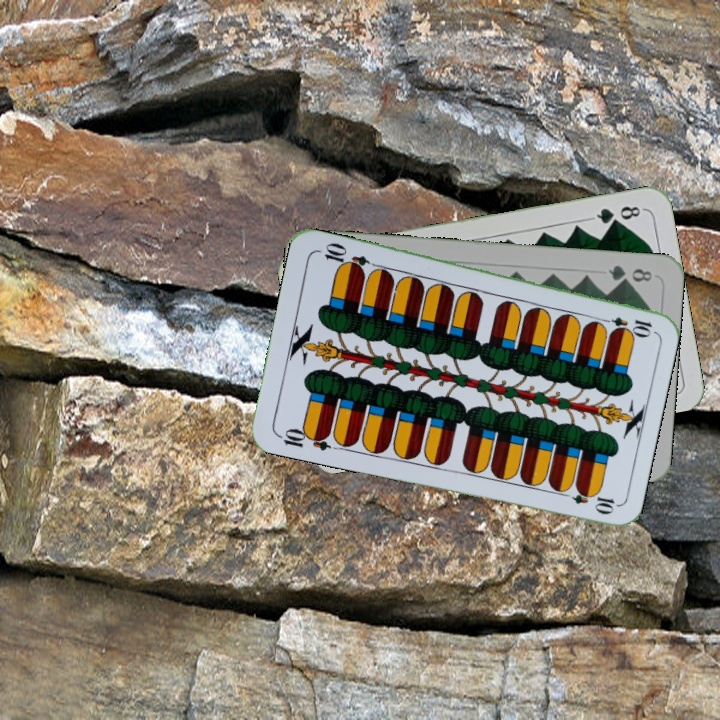E10: (274, 424, 333, 453), (595, 312, 654, 337)
G8: (587, 201, 646, 227), (604, 261, 655, 286)
